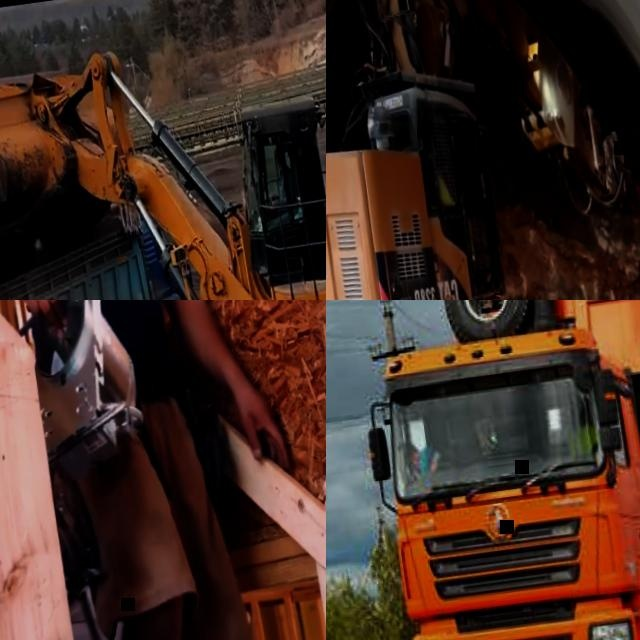NO-Hardhat: (271, 147, 285, 164)
NO-Safety Vest: (8, 300, 179, 395), (267, 170, 295, 210)
Person: (0, 300, 316, 640), (430, 150, 481, 282), (260, 145, 297, 212), (397, 432, 448, 479), (560, 403, 599, 460)
Safety Vest: (564, 420, 601, 460), (409, 443, 438, 475), (436, 175, 452, 205)
machinery: (332, 300, 640, 640), (0, 0, 326, 300), (326, 0, 640, 300), (0, 175, 212, 300)
